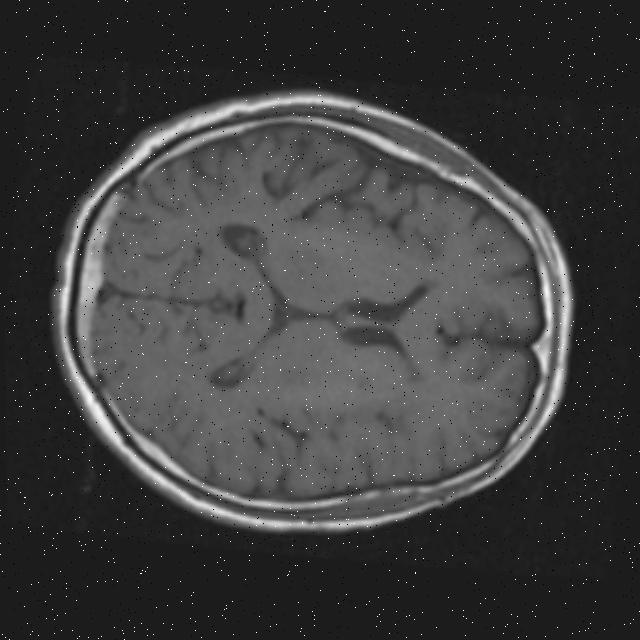NoTumor: (29, 62, 595, 564)
